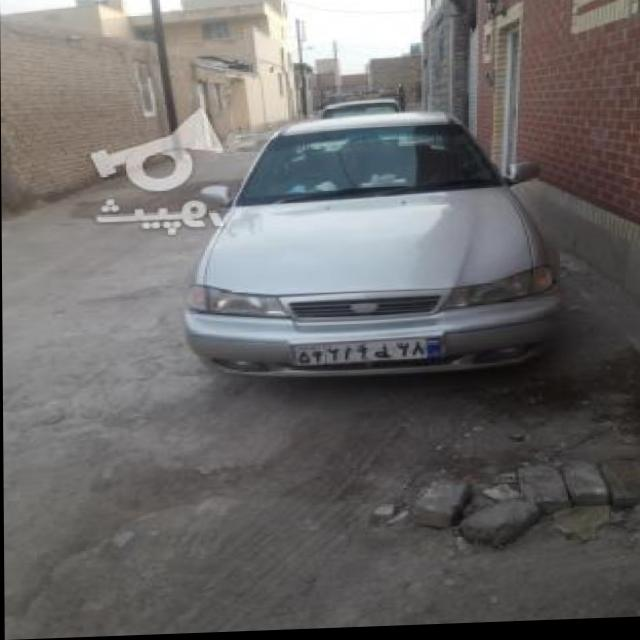licence: (289, 338, 441, 372)
